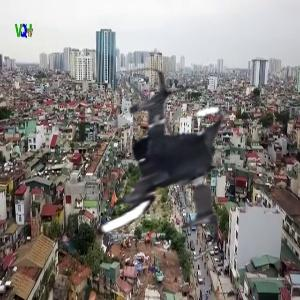drone: (43, 61, 260, 278)
